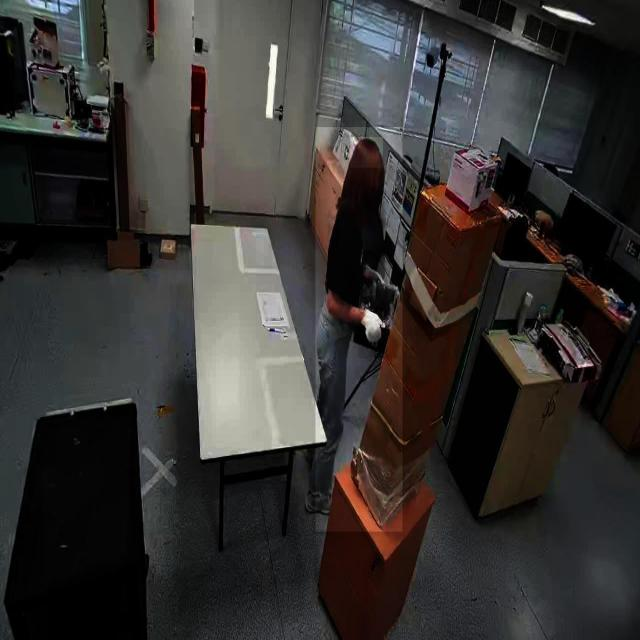hand_glove: (358, 301, 388, 359)
head_nohelmet: (351, 137, 384, 169)
person: (315, 127, 403, 533)
